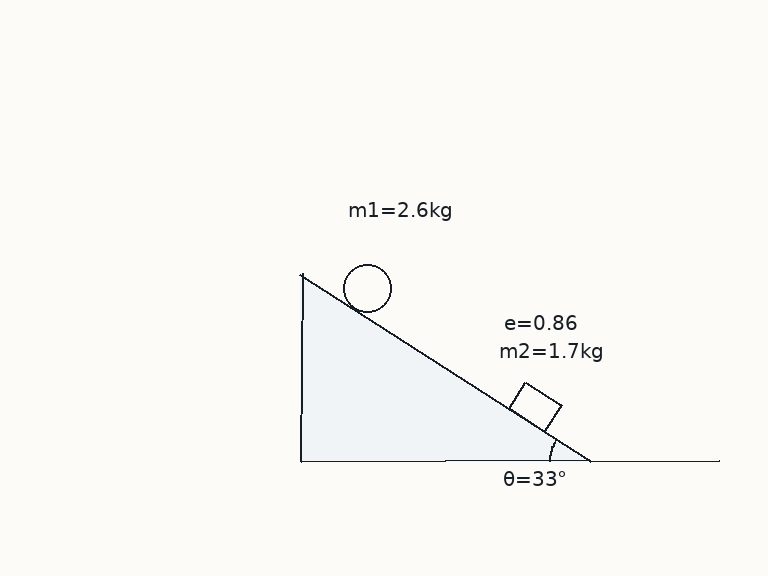ball: (341, 262, 393, 314)
block: (506, 380, 562, 433)
ramp: (299, 271, 592, 463)
